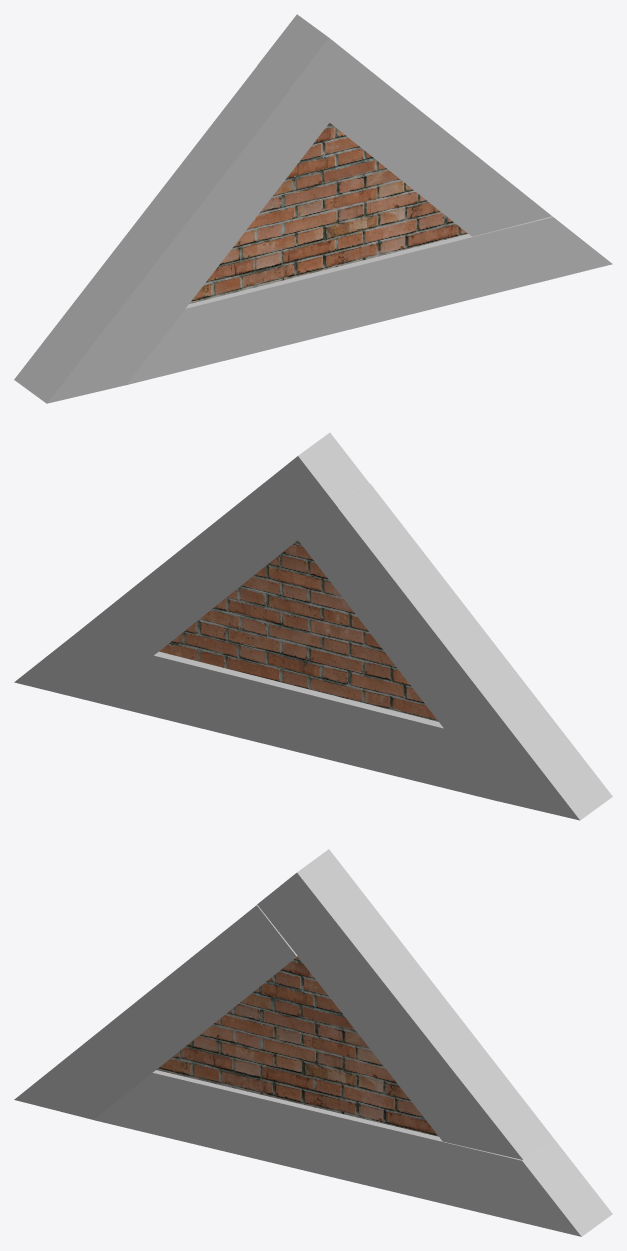
The model's file is House Half Brick Triangle Odd.fbx.
3 views of the same model, one above another, from view 1: azimuth 30°, elevation 25°; view 2: azimuth 150°, elevation 25°; view 3: azimuth 330°, elevation 25° (orthographic).
Visible parts, largest first — view 1: HouseTimberTriangleOdd; view 2: HouseTimberTriangleOdd; view 3: HouseTimberTriangleOdd.
Boxes of the visible parts, <box> form: HouseTimberTriangleOdd: <box>14,14,612,403</box>; HouseTimberTriangleOdd: <box>14,432,612,820</box>; HouseTimberTriangleOdd: <box>14,849,612,1236</box>.
Bounding box in the file's own units: 250 × 125 × 25.
